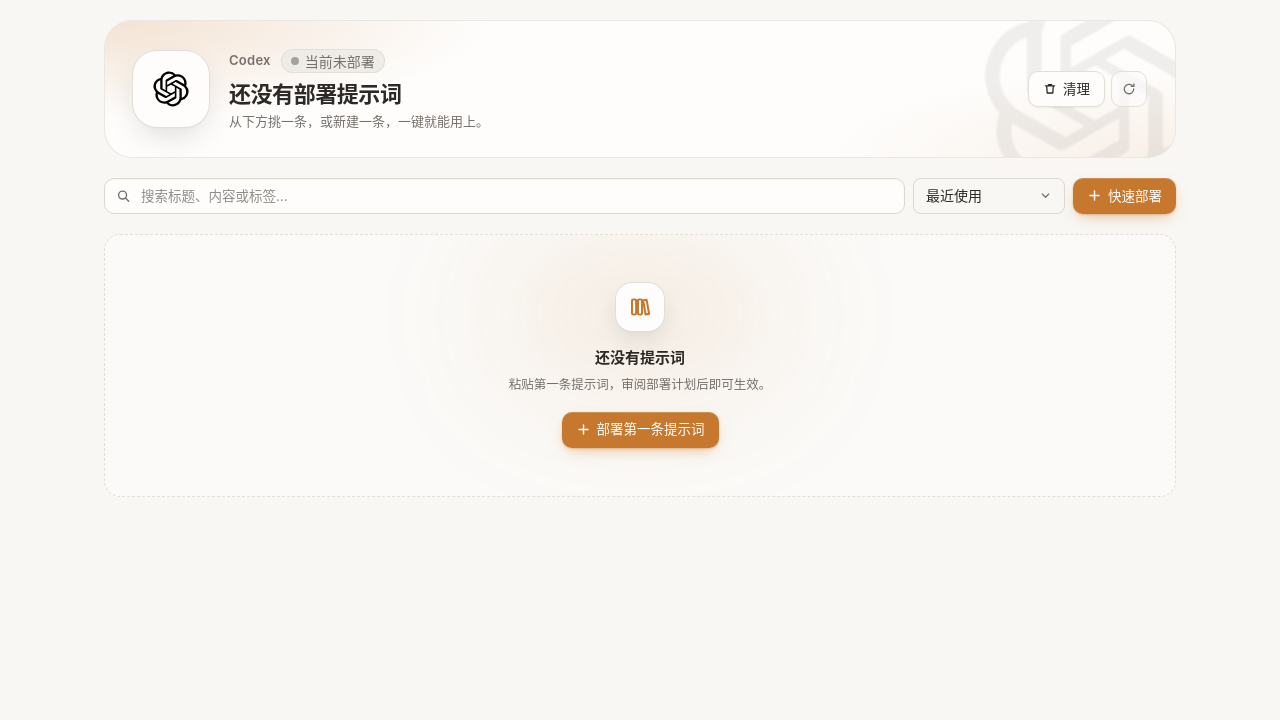
Workspace: Quick Deploy composer › requires pasted content before creating a prompt
The image size is (1280, 720).
Click the button with test id "quick-deploy-open" at (1124, 196), box [1073,178,1176,214]
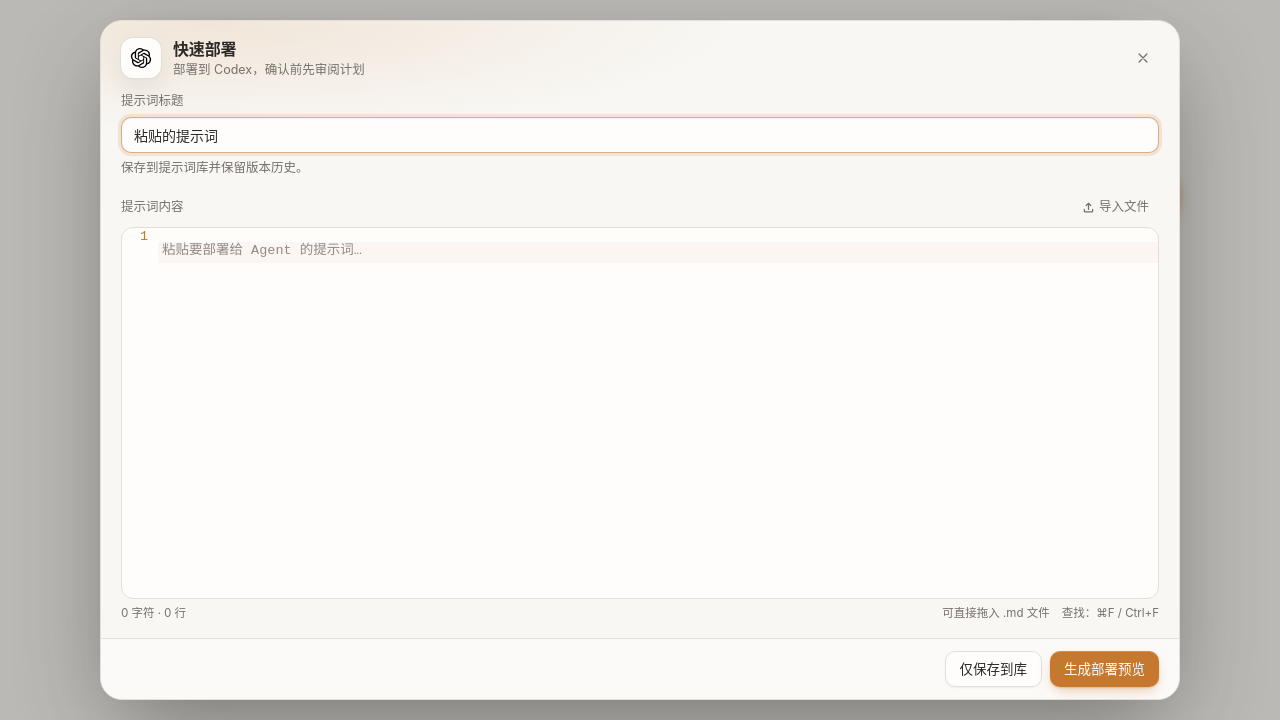
Click the button with test id "quick-deploy-submit" at (1104, 669), box [1050,651,1159,687]
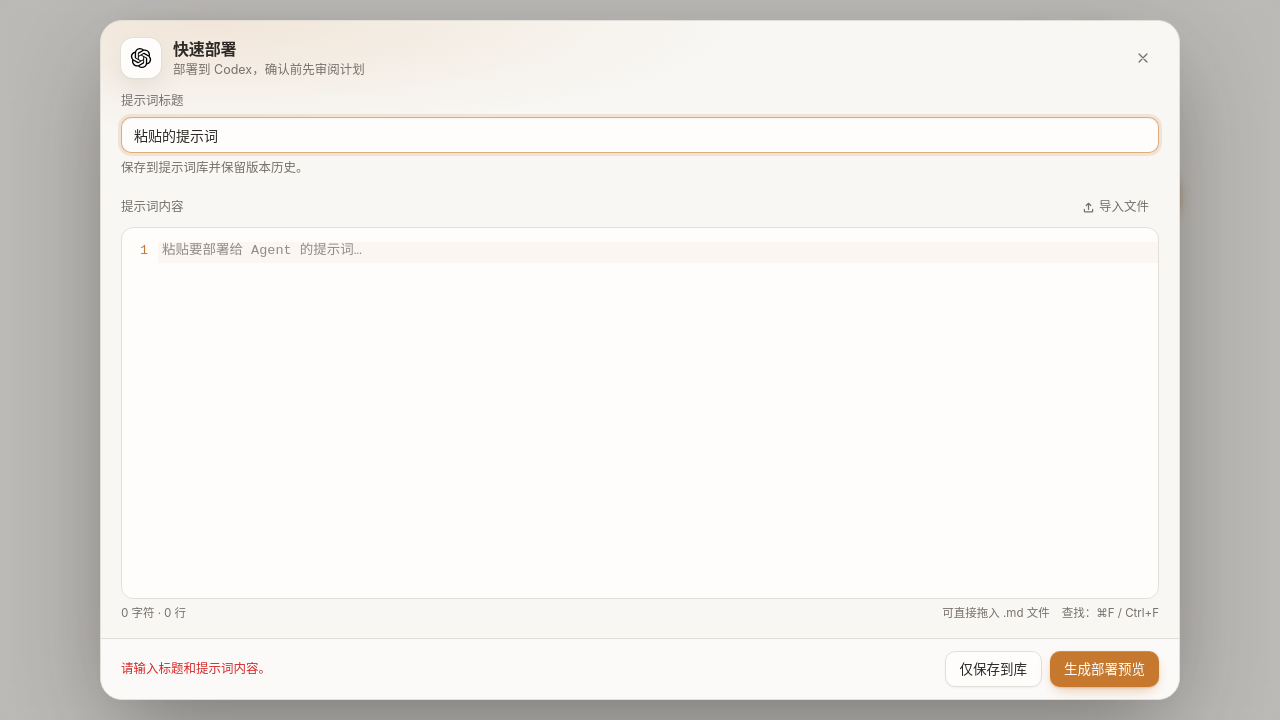
Expected: the message with test id "quick-deploy-status" reads "请输入标题和提示词内容。", [121,661,271,676]
